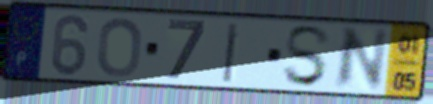6: (48, 11, 90, 78)
7: (164, 17, 210, 84)
I: (220, 21, 242, 85)
N: (330, 26, 391, 92)
O: (95, 16, 145, 79)
S: (281, 24, 334, 89)
